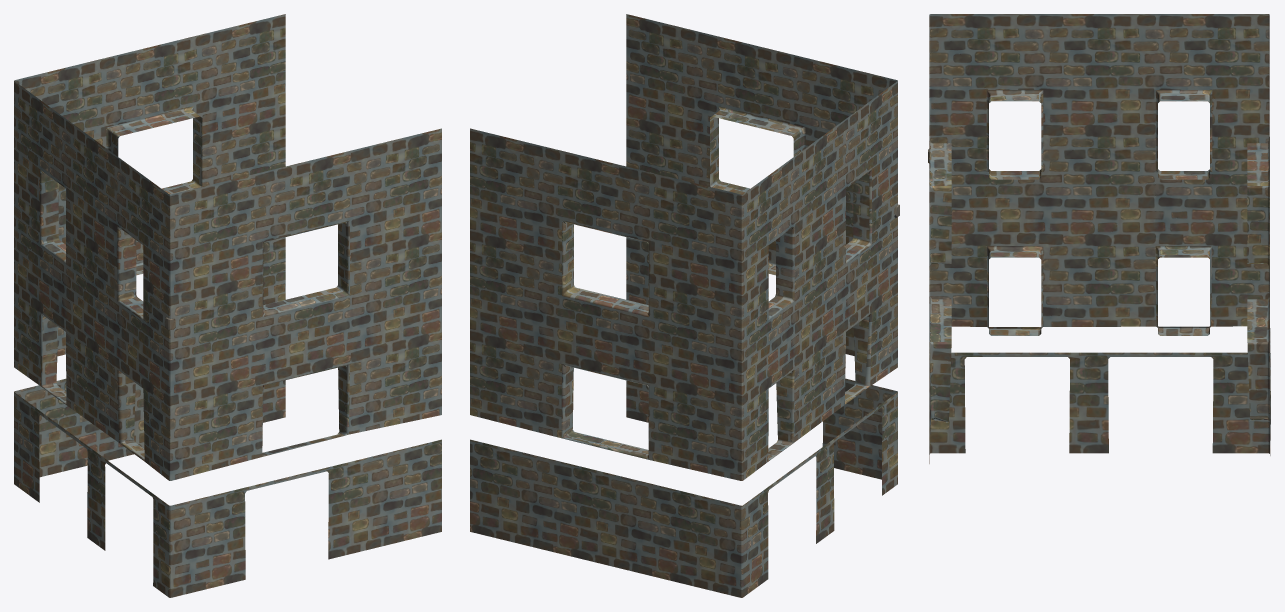
The model's file is SM_Brickbuilding_wall.fbx.
3 renders of one model, left to right at view 1: azimuth 30°, elevation 25°; view 2: azimuth 150°, elevation 25°; view 3: azimuth 270°, elevation 25°, orthographic. The views are drawn at different scales.
Visible parts, largest first — view 1: Object015; view 2: Object015; view 3: Object015.
Boxes of the visible parts, x1,y1,x2,y2 form: Object015: [14, 14, 441, 597]; Object015: [470, 14, 899, 597]; Object015: [928, 14, 1270, 463].
Bounding box in the file's own units: 1152 × 1623 × 1148.
